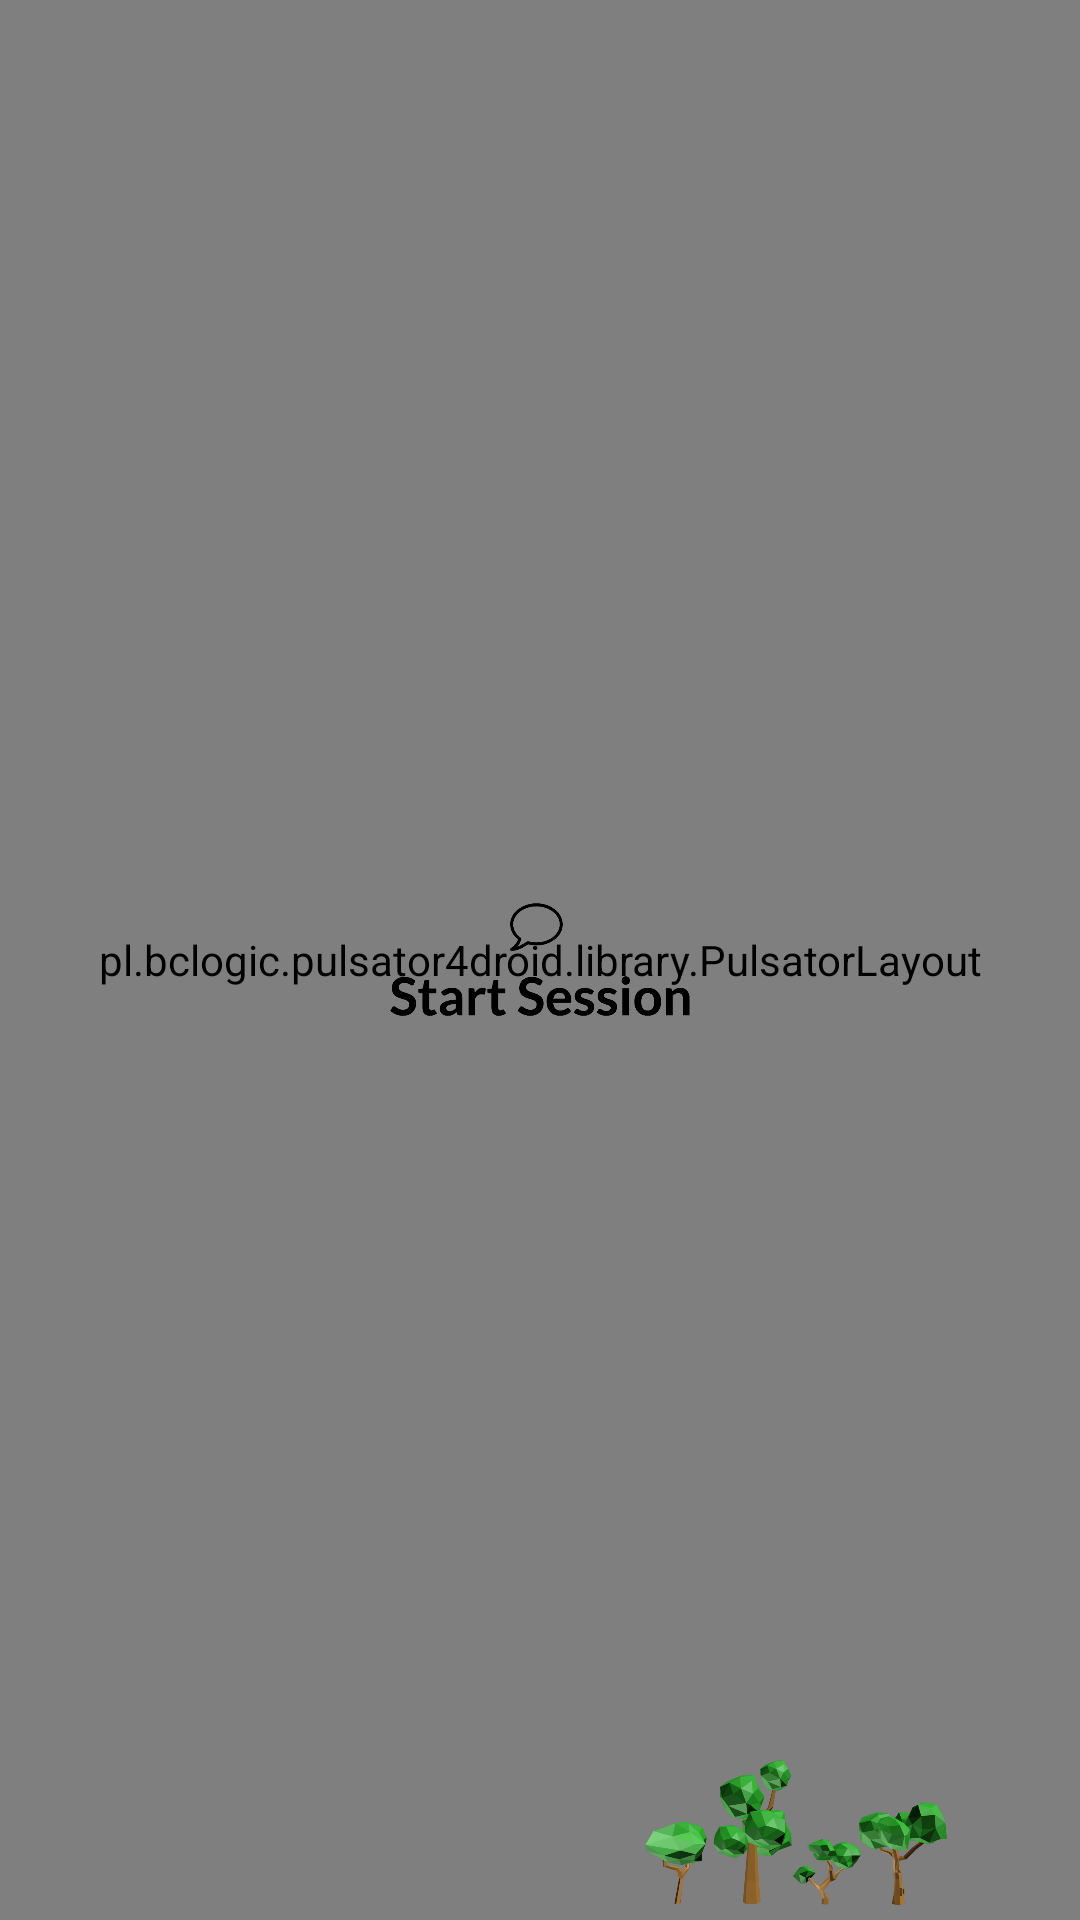

Named icons in this screenshot (1080 × 1920) and their bounding boxes, [x1,y1,x2,y2]:
lowpoly trees: [646,1760,947,1905]
